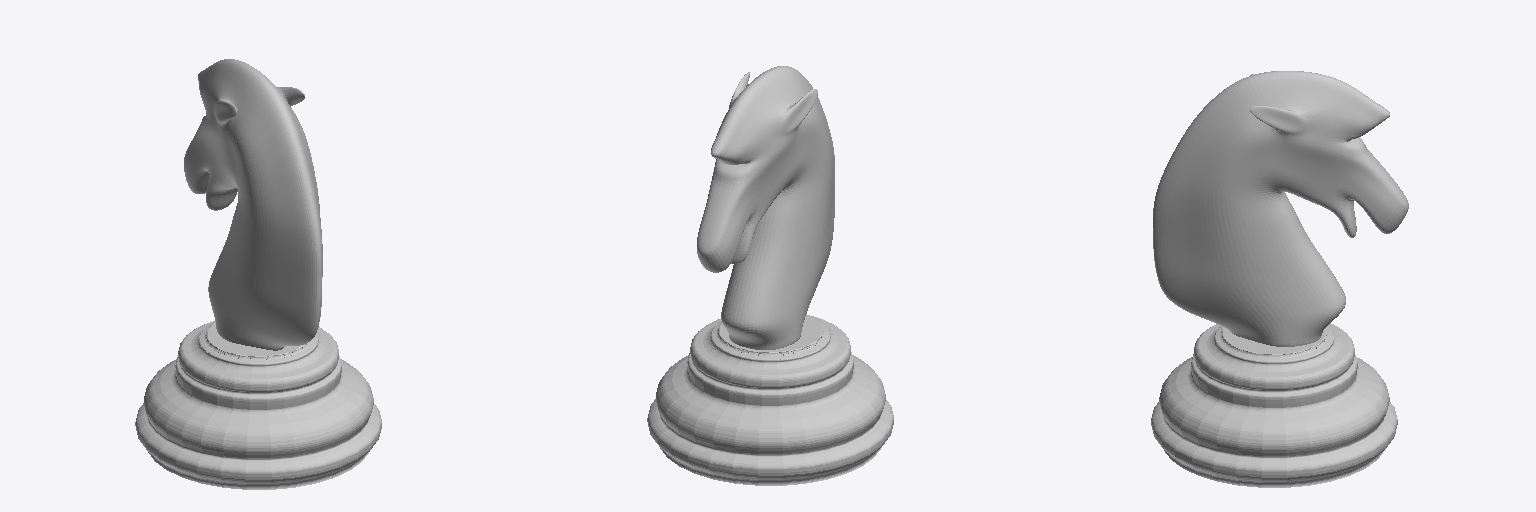
File: horse.obj
The picture shows the model from 3 angles: view 1: azimuth 30°, elevation 25°; view 2: azimuth 150°, elevation 25°; view 3: azimuth 270°, elevation 25°; orthographic projection.
Visible parts, largest first — view 1: Chess_White_Knights_Knight_1; view 2: Chess_White_Knights_Knight_1; view 3: Chess_White_Knights_Knight_1.
Part boxes in pixels (left/top/right/bottom): Chess_White_Knights_Knight_1: left=135, top=59, right=381, bottom=489; Chess_White_Knights_Knight_1: left=647, top=66, right=893, bottom=485; Chess_White_Knights_Knight_1: left=1151, top=71, right=1408, bottom=487.
Bounding box in the file's own units: 0.812 × 1.35 × 0.8532.